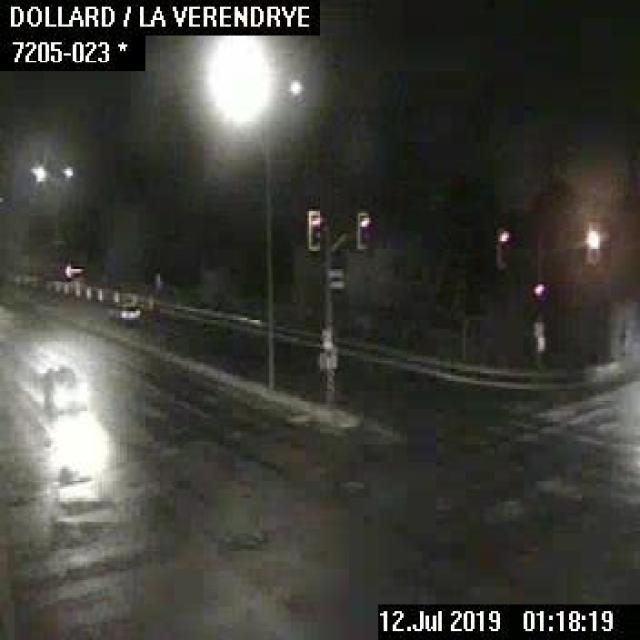vehicle: (18, 346, 84, 415), (102, 295, 140, 320)
